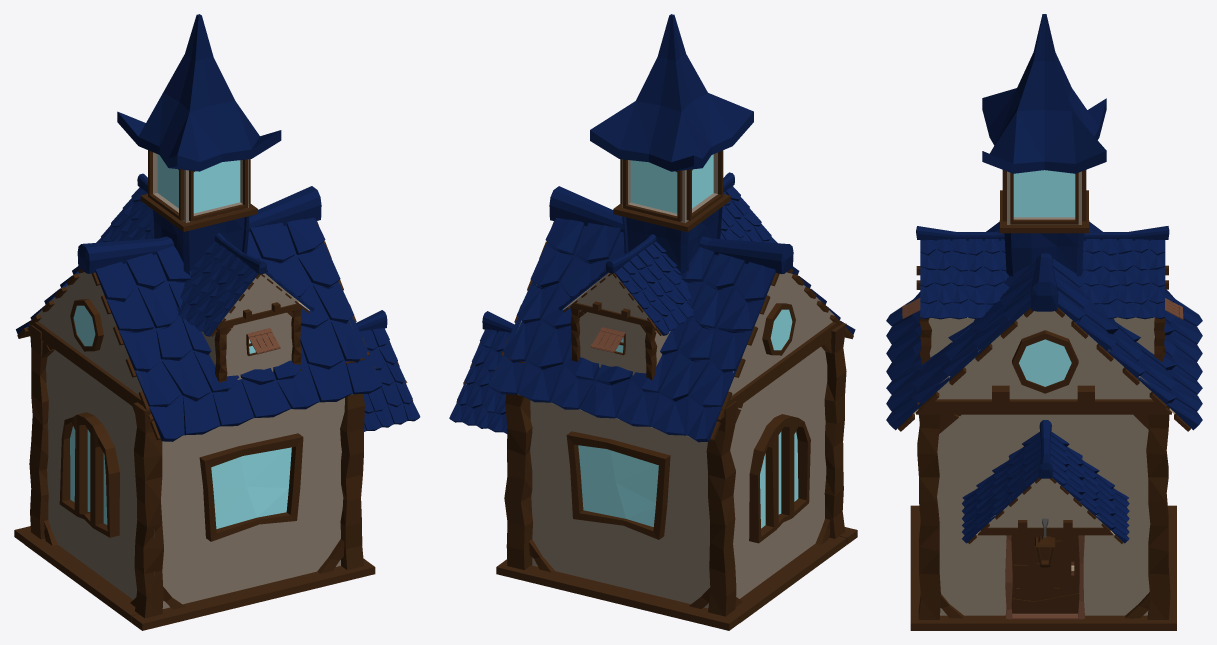
File: DarkHouse.fbx
The picture shows the model from 3 angles, left to right: view 1: azimuth 30°, elevation 25°; view 2: azimuth 150°, elevation 25°; view 3: azimuth 270°, elevation 25°; orthographic projection. The views are drawn at different scales.
Visible parts, largest first — view 1: House5; view 2: House5; view 3: House5.
Part boxes in pixels (x1=…): House5: x1=14, y1=14, x2=420, y2=630; House5: x1=449, y1=14, x2=857, y2=630; House5: x1=886, y1=14, x2=1202, y2=630.
Size of the model in its own units: 2738 by 4340 by 2227.
